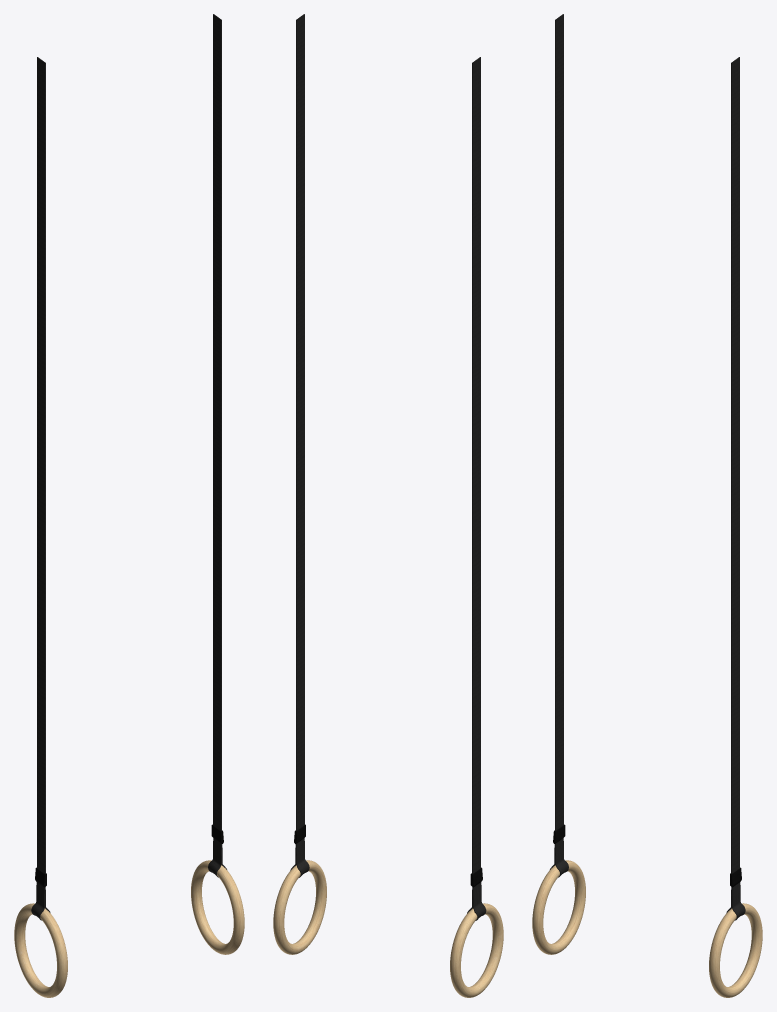
Rendered from rings.glb.
3 renders of one model, left to right at view 1: azimuth 30°, elevation 25°; view 2: azimuth 150°, elevation 25°; view 3: azimuth 330°, elevation 25°, orthographic.
Parts seen in each view (by area): view 1: left_strip, right_strip, right_ring, left_ring; view 2: left_strip, right_strip, left_ring, right_ring; view 3: right_strip, left_strip, left_ring, right_ring.
Boxes of the visible parts, x1,y1,x2,y2 form: left_strip: [37, 57, 45, 873]; right_strip: [213, 14, 221, 830]; right_ring: [191, 824, 244, 954]; left_ring: [14, 867, 67, 997]; left_strip: [472, 57, 480, 873]; right_strip: [296, 14, 304, 830]; left_ring: [450, 867, 503, 997]; right_ring: [273, 824, 326, 954]; right_strip: [731, 57, 739, 873]; left_strip: [555, 14, 563, 830]; left_ring: [532, 824, 585, 954]; right_ring: [709, 867, 762, 997].
Size of the model in its own units: 0.5312 by 2.53 by 0.2366.
Materials: 1 (1 with a texture image).
